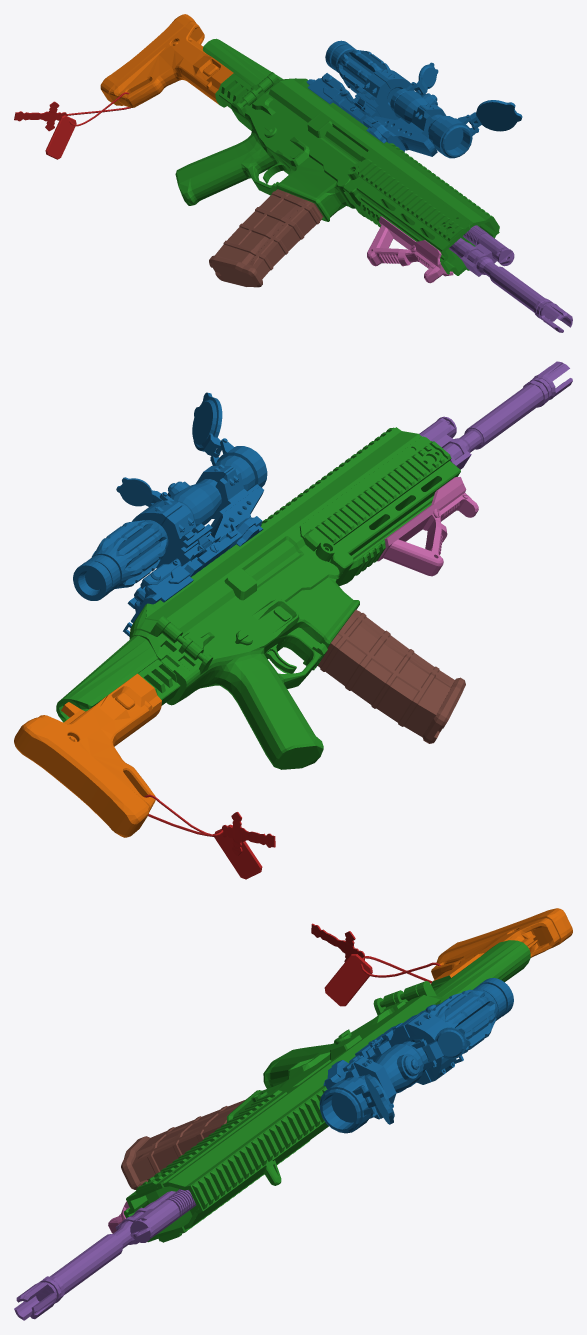
Rendered from rifle_k7.glb.
3 views of the same model, one above another, from view 1: azimuth 30°, elevation 25°; view 2: azimuth 150°, elevation 25°; view 3: azimuth 330°, elevation 25° (orthographic). The views are drawn at different scales.
Visible parts, largest first — view 1: world; view 2: world; view 3: world.
Part boxes in pixels (x1=…): world: x1=14, y1=14, x2=572, y2=332; world: x1=14, y1=361, x2=572, y2=879; world: x1=14, y1=908, x2=572, y2=1320.
Size of the model in its own units: 0.8026 by 0.4502 by 1.93.
